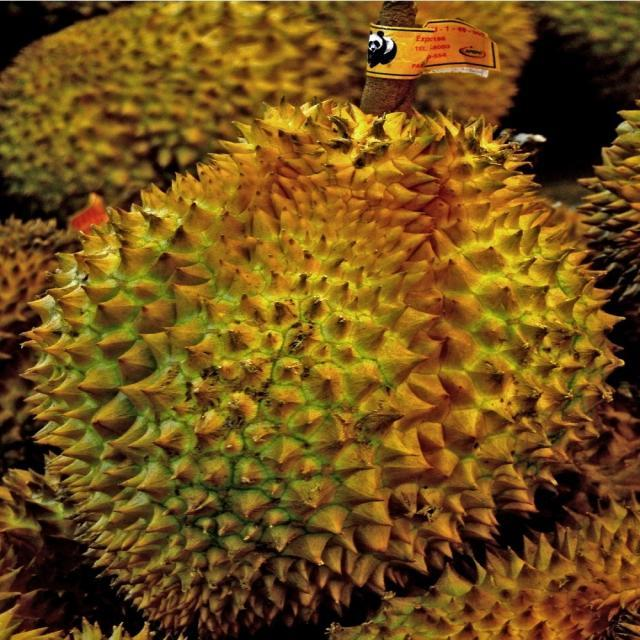mature: (30, 102, 617, 637)
